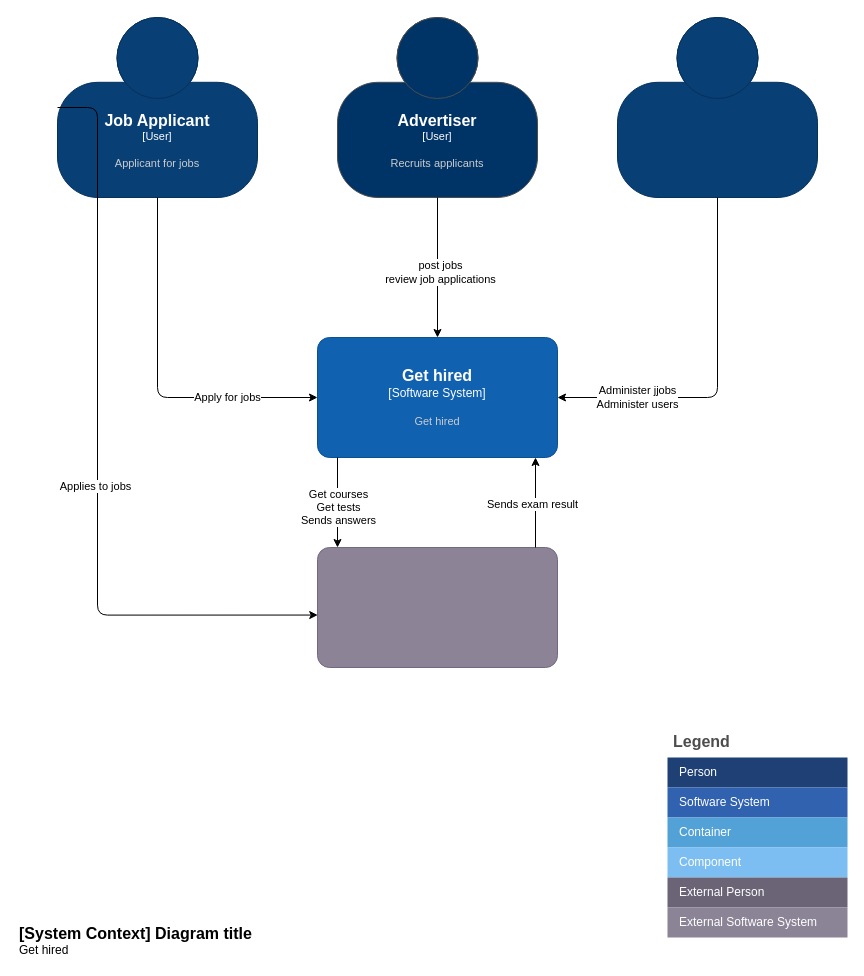
Some shapes in this 864 by 976 pixel diagram are drawn without their labels. The shapes that lost their labels are listed below. From the top down, each one's centre as x and y in pixels, then its label:
At (x=717, y=107): "Person name [User] Administers sites".
At (x=437, y=607): "educational module [Software System] learning platform".
